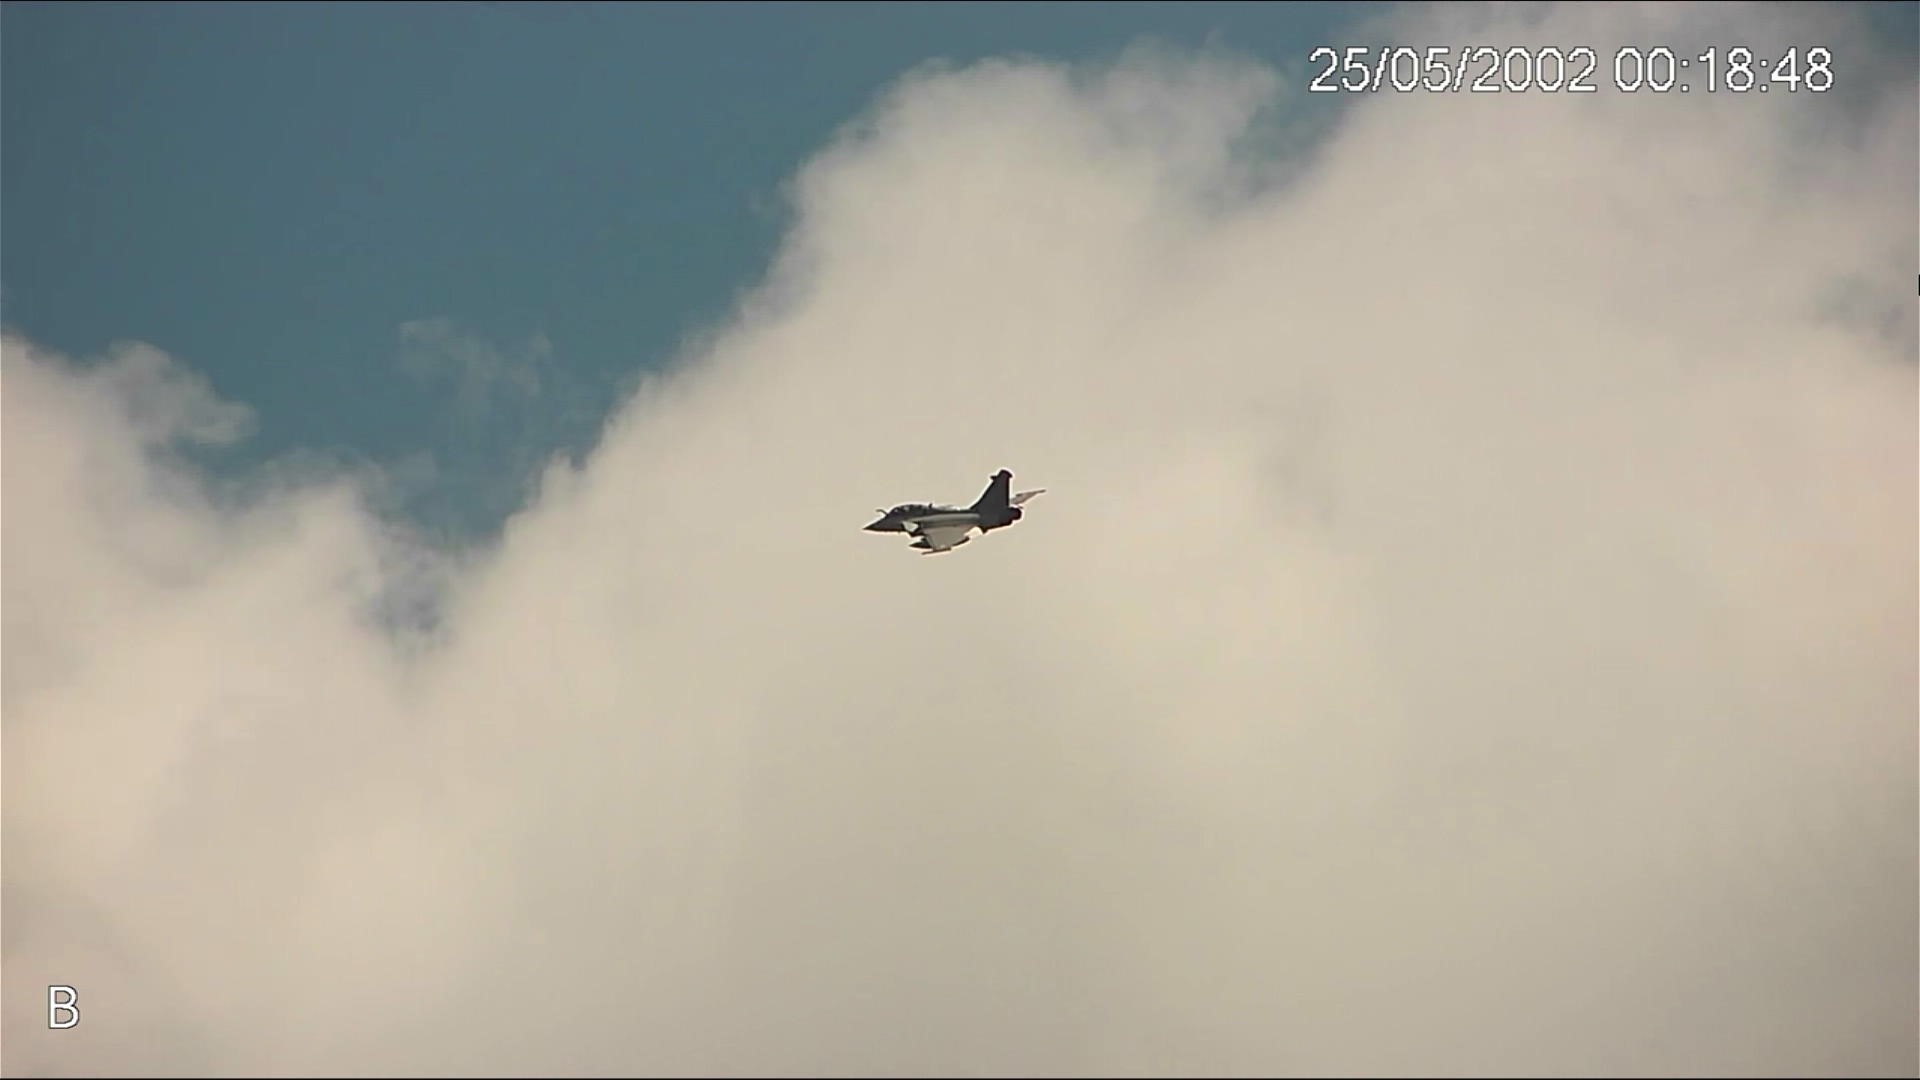SU_30: (865, 469, 1046, 554)
